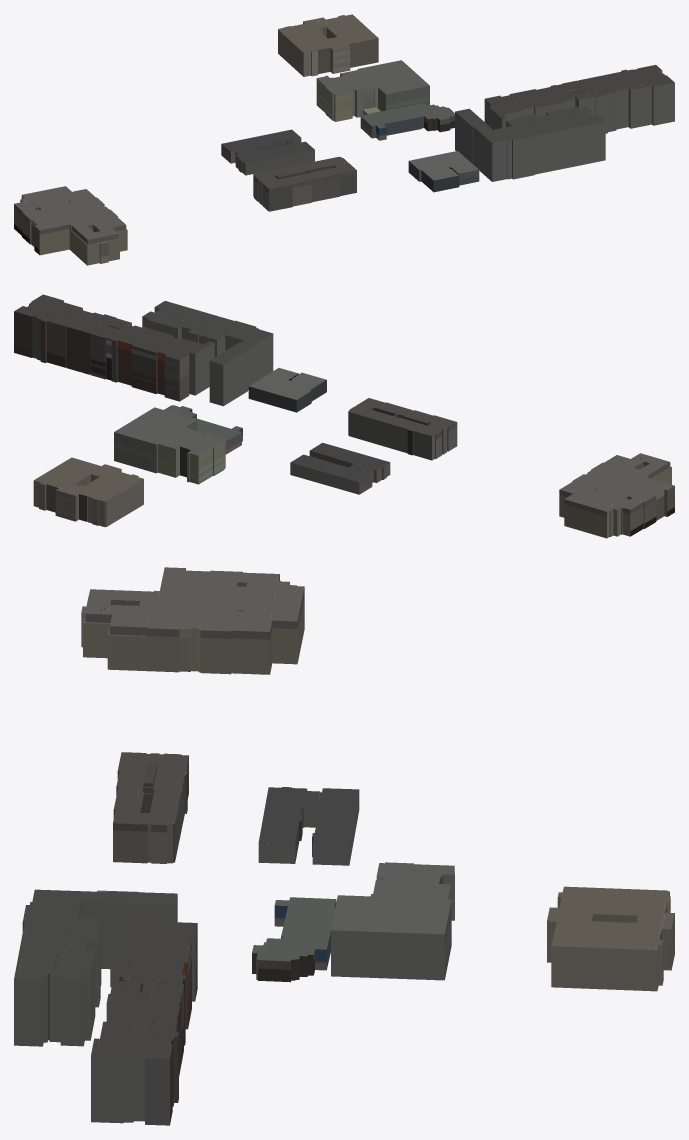
Rendered from t_-4_0.far.glb.
3 views of the same model, one above another, from view 1: azimuth 30°, elevation 25°; view 2: azimuth 150°, elevation 25°; view 3: azimuth 270°, elevation 25° (orthographic). The views are drawn at different scales.
Parts seen in each view (by area): view 1: opaque; view 2: opaque; view 3: opaque.
Boxes of the visible parts, x1,y1,x2,y2 form: opaque: (14,14,674,265); opaque: (14,294,674,538); opaque: (14,567,674,1125).
Size of the model in its own units: 315 by 18.9 by 171.
1 material, 1 textured.
